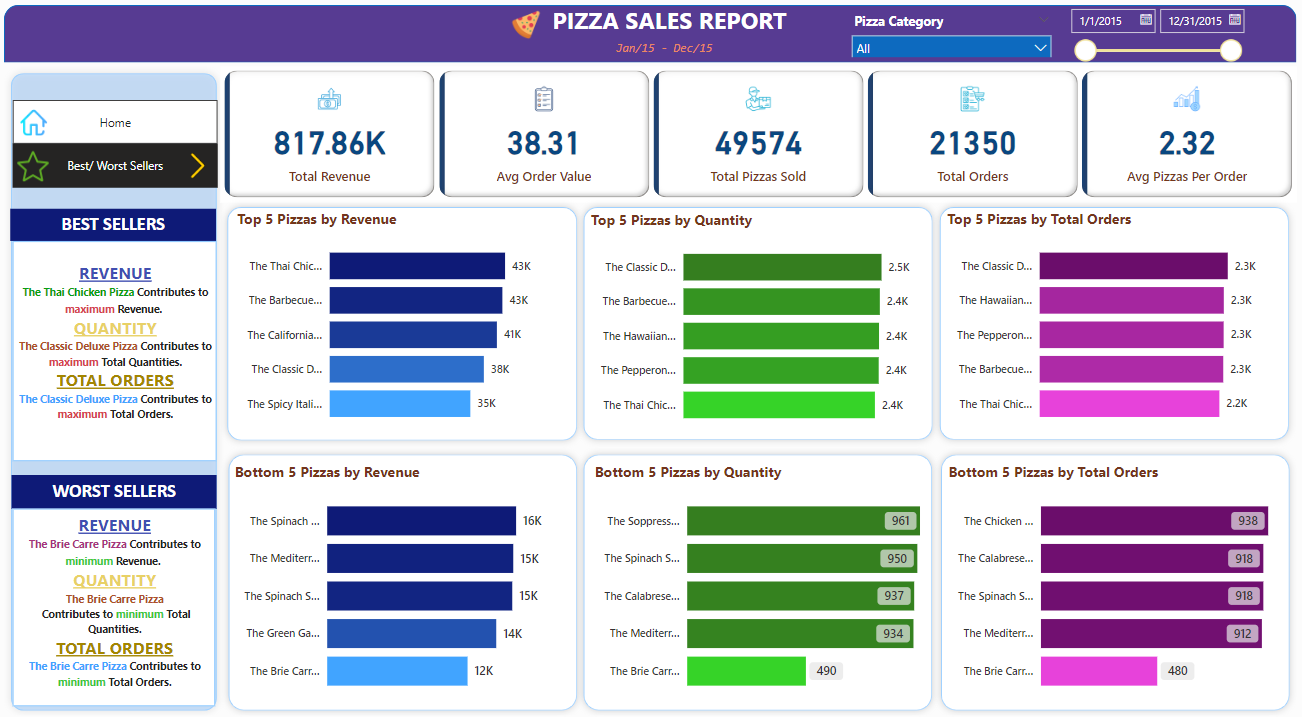

The page's visual inventory and layout, read from the dashboard file:
{"tool":"powerbi","page":{"name":"Best/ Worst Sellers","canvas":[1500,820],"ordinal":1},"visuals":[{"type":"shape","box":[5.7,75.7,251.1,744.3],"z":0},{"type":"cardVisual","fields":{"Data":["pizza_sales.Total Revenue","pizza_sales.Avg Order Value","pizza_sales.Total Pizzas Sold","pizza_sales.Total Orders","pizza_sales.Avg Pizzas Per Order"]},"box":[252.9,75.7,1230,155.7],"z":1000},{"type":"shape","box":[5.7,5.7,1477.1,65.7],"z":2000},{"type":"textbox","box":[610,0,312.9,58.6],"z":3000},{"type":"textbox","box":[700,40,134.3,37.1],"z":4000},{"type":"image","box":[424,7.1,355.7,42.9],"z":5000},{"type":"shape","box":[252.9,228.6,415.7,282.9],"z":6000},{"type":"textbox","box":[13.3,239.2,235,36.7],"z":7000},{"type":"textbox","box":[15.7,275.7,232.9,251.4],"z":8000},{"type":"textbox","box":[14.3,542.9,234.3,38.6],"z":9000},{"type":"textbox","box":[15.7,581.4,231.4,225.7],"z":10000},{"type":"slicer","fields":{"Values":["pizza_sales.pizza_category"]},"box":[964.2,9.2,248.3,56.7],"z":11000},{"type":"slicer","fields":{"Values":["pizza_sales.order_date"]},"box":[1212.5,0,215.8,71.7],"z":12000},{"type":"shape","box":[660,228.8,415,282],"z":13000},{"type":"shape","box":[1067.5,228.8,415,282],"z":14000},{"type":"shape","box":[254.3,511.4,414.3,308.6],"z":15000},{"type":"shape","box":[660,511.4,414.3,308.6],"z":16000},{"type":"shape","box":[1068.6,511.4,414.3,308.6],"z":17000},{"type":"barChart","title":"Top 5 Pizzas by Revenue","fields":{"Category":["pizza_sales.pizza_name"],"Y":["pizza_sales.Total Revenue"]},"box":[267.1,238.6,392.9,260],"z":18000},{"type":"barChart","title":"Bottom 5 Pizzas by Revenue","fields":{"Category":["pizza_sales.pizza_name"],"Y":["pizza_sales.Total Revenue"]},"box":[264.3,527.1,392.9,280],"z":19000},{"type":"barChart","title":"Top 5 Pizzas by Quantity","fields":{"Category":["pizza_sales.pizza_name"],"Y":["pizza_sales.Total Pizzas Sold"]},"box":[671.4,240,392.9,260],"z":20000},{"type":"barChart","title":"Bottom 5 Pizzas by Quantity","fields":{"Category":["pizza_sales.pizza_name"],"Y":["pizza_sales.Total Pizzas Sold"]},"box":[675.7,527.1,392.9,280],"z":21000},{"type":"barChart","title":"Top 5 Pizzas by Total Orders","fields":{"Category":["pizza_sales.pizza_name"],"Y":["pizza_sales.Total Orders"]},"box":[1078.6,238.6,392.9,260],"z":22000},{"type":"barChart","title":"Bottom 5 Pizzas by Total Orders","fields":{"Category":["pizza_sales.pizza_name"],"Y":["pizza_sales.Total Orders"]},"box":[1080,527.1,392.9,280],"z":23000},{"type":"pageNavigator","box":[15.7,114.3,234.3,50],"z":23001},{"type":"pageNavigator","box":[15.7,164.3,234.3,50],"z":23002},{"type":"image","box":[200,170,54.3,38.6],"z":23003},{"type":"image","box":[15.7,120,47.1,40],"z":23004},{"type":"image","box":[12.9,167.1,51.4,45.7],"z":23005}]}

Visuals, with their boxes in screenshot pixels (x1, y1, x2, y2), scaled from the page's 1500x820 canvas onto the 1302x717 screenshot:
shape: select_region(5, 66, 223, 716)
cardVisual - pizza_sales.Total Revenue x pizza_sales.Avg Order Value: select_region(220, 66, 1287, 202)
shape: select_region(5, 5, 1287, 62)
textbox: select_region(529, 0, 801, 51)
textbox: select_region(608, 35, 724, 67)
image: select_region(368, 6, 677, 44)
shape: select_region(220, 200, 580, 447)
textbox: select_region(12, 209, 216, 241)
textbox: select_region(14, 241, 216, 461)
textbox: select_region(12, 475, 216, 508)
textbox: select_region(14, 508, 214, 706)
slicer - pizza_sales.pizza_category: select_region(837, 8, 1052, 58)
slicer - pizza_sales.order_date: select_region(1052, 0, 1240, 63)
shape: select_region(573, 200, 933, 447)
shape: select_region(927, 200, 1287, 447)
shape: select_region(221, 447, 580, 716)
shape: select_region(573, 447, 932, 716)
shape: select_region(928, 447, 1287, 716)
"Top 5 Pizzas by Revenue" barChart: select_region(232, 209, 573, 436)
"Bottom 5 Pizzas by Revenue" barChart: select_region(229, 461, 570, 706)
"Top 5 Pizzas by Quantity" barChart: select_region(583, 210, 924, 437)
"Bottom 5 Pizzas by Quantity" barChart: select_region(587, 461, 928, 706)
"Top 5 Pizzas by Total Orders" barChart: select_region(936, 209, 1277, 436)
"Bottom 5 Pizzas by Total Orders" barChart: select_region(937, 461, 1278, 706)
pageNavigator: select_region(14, 100, 217, 144)
pageNavigator: select_region(14, 144, 217, 187)
image: select_region(174, 149, 221, 182)
image: select_region(14, 105, 55, 140)
image: select_region(11, 146, 56, 186)
